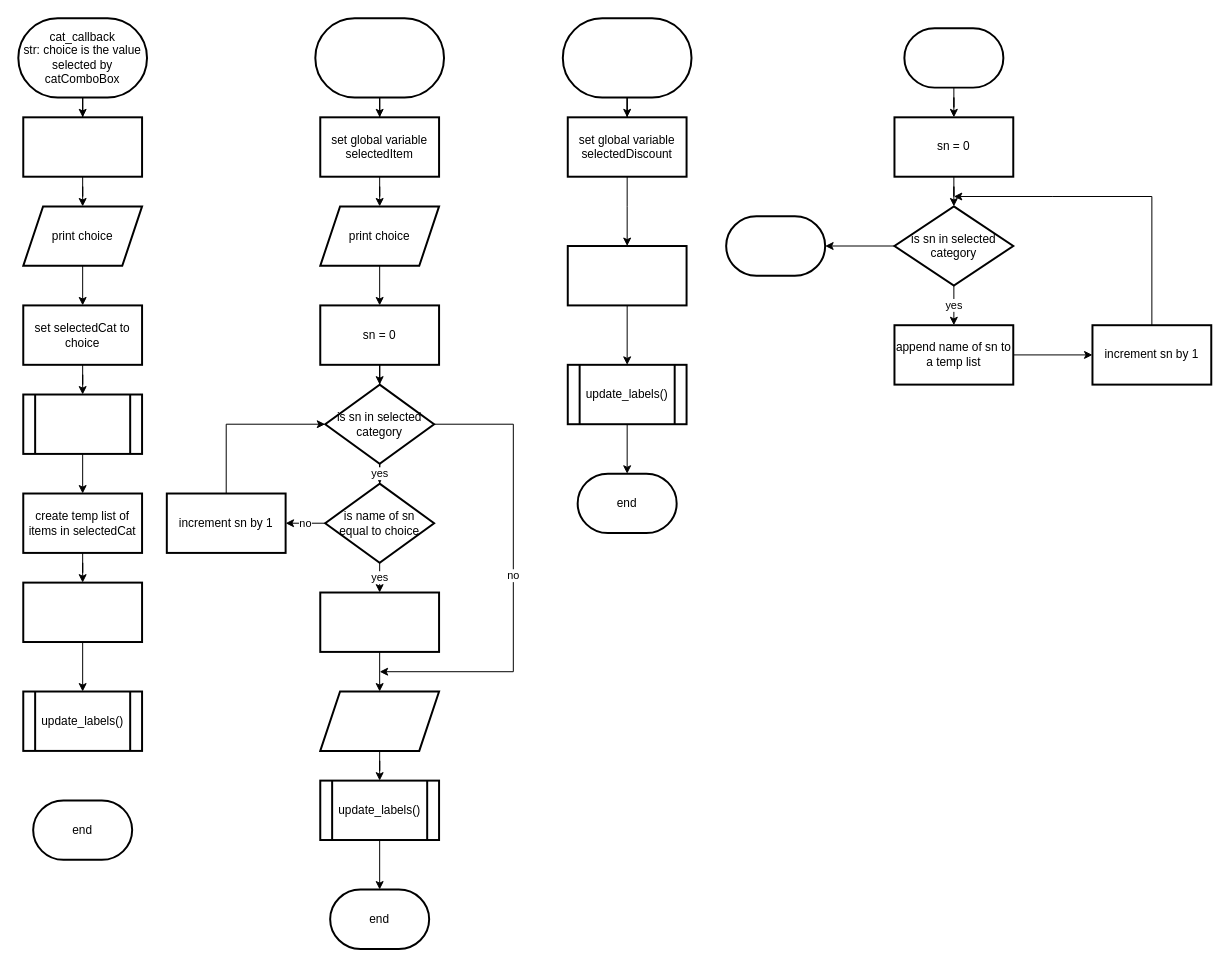
The diagram is 1229 pixels wide and 966 high, and some of its shapes have lost their labels. The box of each missing label's shape, as (x1, y1, x2, y2) in pixels:
discount_callback str: choice is the value selected by discountComboBox: (561, 17, 692, 98)
get_items: (903, 27, 1004, 88)
item_callback str: choice is the value selected by itemComboBox: (314, 17, 445, 98)
print selectedItem: (319, 690, 440, 751)
retrun the temp list: (725, 215, 826, 276)
selectedItem = sn: (319, 591, 440, 652)
set global variables selectedCat, selectedItem, itemList: (22, 116, 143, 177)
set itemList to get_items(): (22, 393, 143, 454)
set selectedDiscount to choice: (566, 245, 687, 306)
set selectedItem to first value in temp list: (22, 581, 143, 643)
